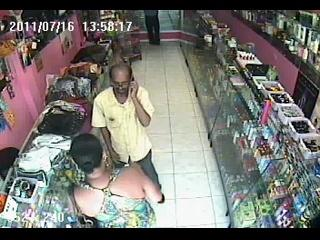Normal: (67, 133, 165, 228), (90, 63, 162, 190), (144, 10, 160, 46)
